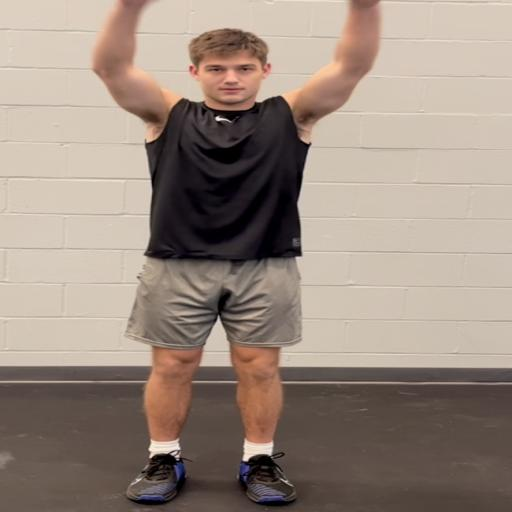Normal_DumbbellBicepCurls: (58, 1, 410, 512)
